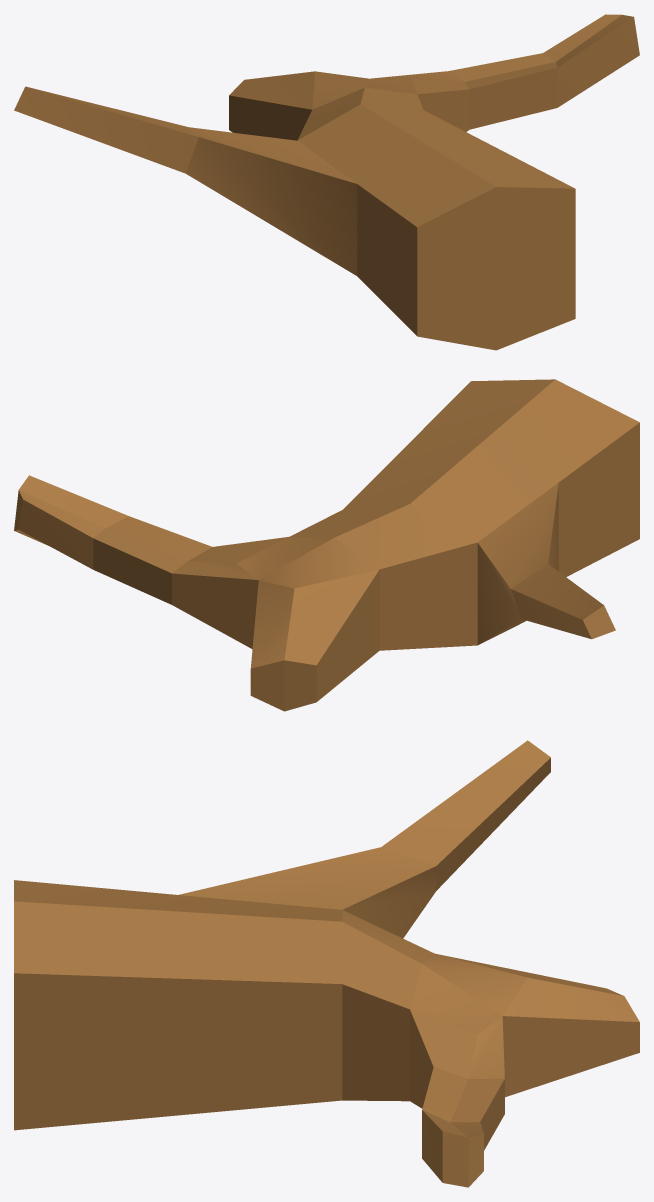
Rendered from trunk1.dae.
3 views of the same model, one above another, from view 1: azimuth 30°, elevation 25°; view 2: azimuth 150°, elevation 25°; view 3: azimuth 270°, elevation 25° (orthographic). The views are drawn at different scales.
Parts seen in each view (by area): view 1: Brown; view 2: Brown; view 3: Brown.
Boxes of the visible parts, x1,y1,x2,y2 form: Brown: [14, 14, 639, 350]; Brown: [14, 379, 639, 711]; Brown: [14, 740, 639, 1187].
Size of the model in its own units: 0.2876 by 0.2187 by 0.0795.
